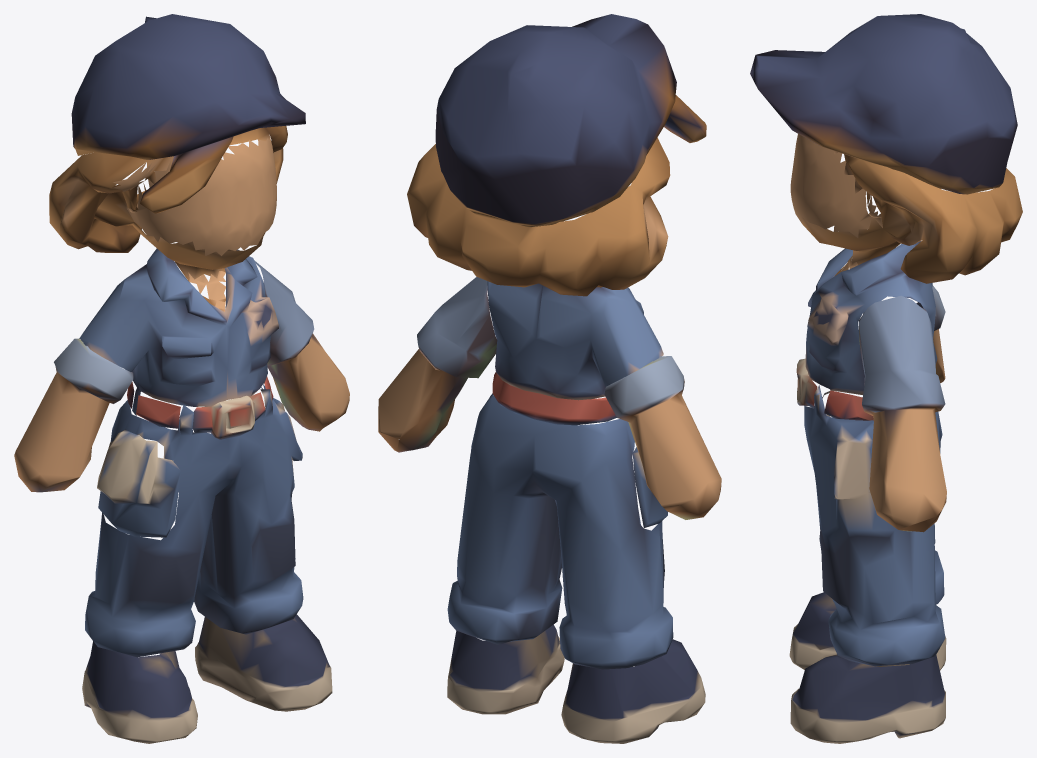
3 renders of one model, left to right at view 1: azimuth 30°, elevation 25°; view 2: azimuth 150°, elevation 25°; view 3: azimuth 270°, elevation 25°, orthographic. The views are drawn at different scales.
Visible parts, largest first — view 1: hair, bottom, top, sleeve_r, head, shoe_l, shoe_r, sleeve_l; view 2: hair, bottom, top, sleeve_r, sleeve_l, shoe_r, shoe_l; view 3: hair, bottom, sleeve_l, shoe_l, top, head, shoe_r, sleeve_r.
Part boxes in pixels (left/top/right/bottom): hair: left=49, top=14, right=305, bottom=311; bottom: left=85, top=384, right=303, bottom=657; top: left=79, top=248, right=278, bottom=439; sleeve_r: left=14, top=338, right=180, bottom=537; head: left=112, top=136, right=276, bottom=311; shoe_l: left=195, top=614, right=332, bottom=711; shoe_r: left=82, top=641, right=197, bottom=743; sleeve_l: left=254, top=260, right=349, bottom=431; hair: left=407, top=14, right=706, bottom=296; bottom: left=447, top=393, right=673, bottom=669; top: left=487, top=281, right=663, bottom=425; sleeve_r: left=604, top=356, right=721, bottom=527; sleeve_l: left=378, top=277, right=497, bottom=452; shoe_r: left=561, top=639, right=705, bottom=743; shoe_l: left=447, top=624, right=564, bottom=714; hair: left=750, top=14, right=1022, bottom=283; bottom: left=804, top=385, right=945, bottom=666; sleeve_l: left=824, top=295, right=946, bottom=532; shoe_l: left=790, top=654, right=945, bottom=743; top: left=796, top=241, right=937, bottom=408; head: left=790, top=134, right=882, bottom=272; shoe_r: left=789, top=592, right=946, bottom=670; sleeve_r: left=822, top=285, right=945, bottom=416.
Bounding box in the file's own units: 0.5237 × 1.03 × 0.3803.
